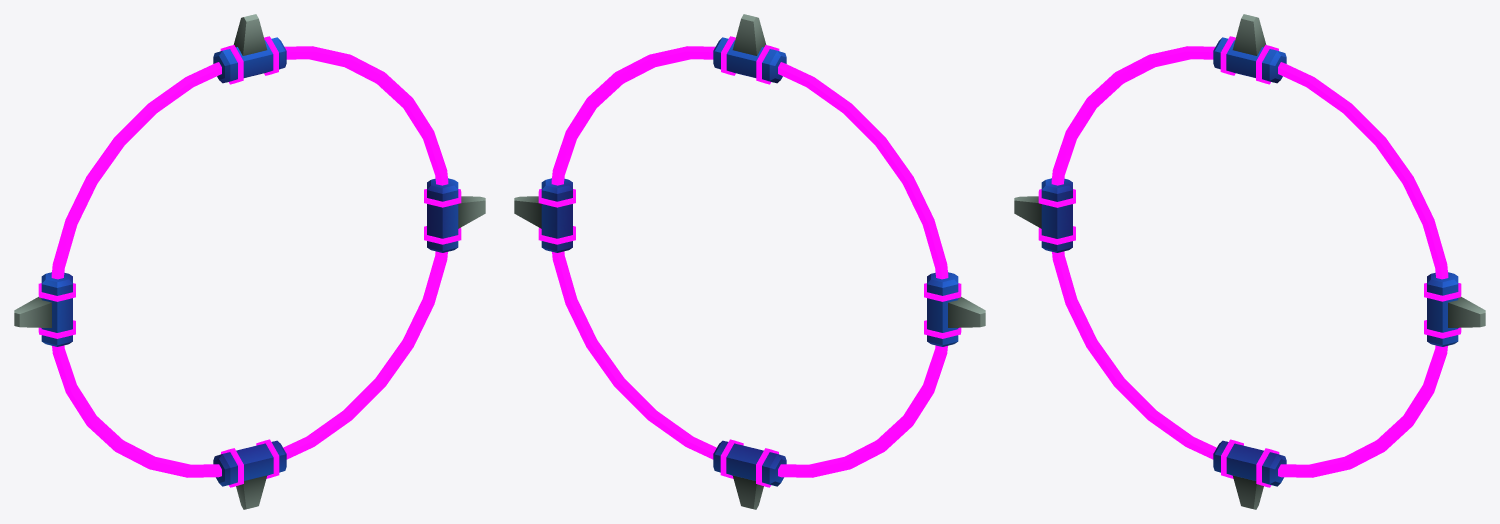
Rendered from ring.fbx.
3 renders of one model, left to right at view 1: azimuth 30°, elevation 25°; view 2: azimuth 150°, elevation 25°; view 3: azimuth 330°, elevation 25°, orthographic.
Visible parts, largest first — view 1: ring; view 2: ring; view 3: ring.
Boxes of the visible parts, x1,y1,x2,y2 form: ring: [14, 14, 485, 509]; ring: [514, 14, 985, 509]; ring: [1014, 14, 1485, 509].
Bounding box in the file's own units: 1065 × 1065 × 72.9.
